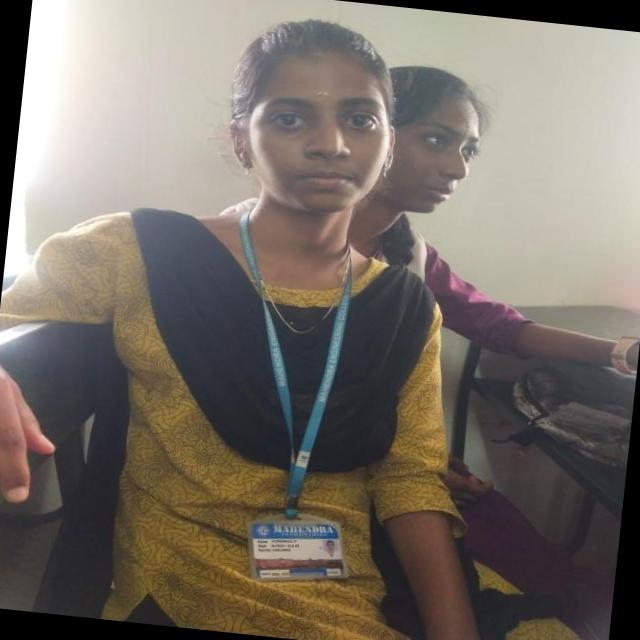id_card: (218, 204, 396, 582)
